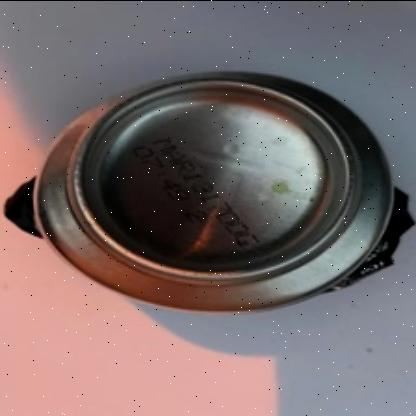Can: (0, 70, 416, 312)
